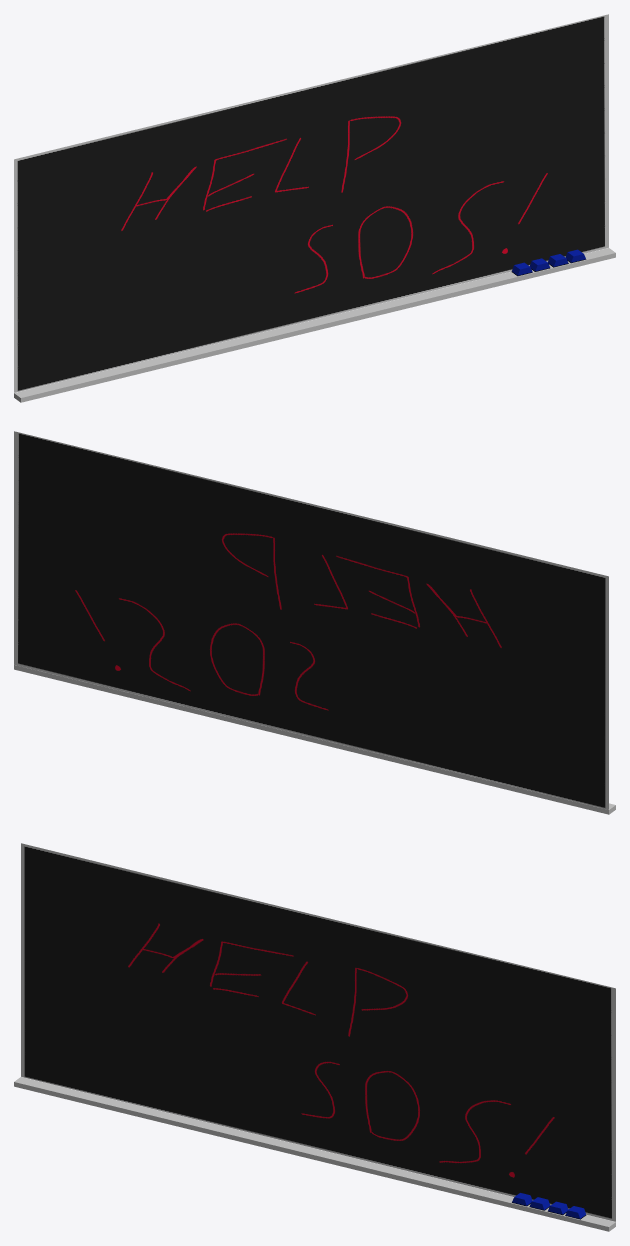
Rendered from BlackBoard Game.fbx.
3 views of the same model, one above another, from view 1: azimuth 30°, elevation 25°; view 2: azimuth 150°, elevation 25°; view 3: azimuth 330°, elevation 25° (orthographic).
Visible parts, largest first — view 1: pPlane1, pCube1; view 2: pPlane1, pCube1; view 3: pPlane1, pCube1.
Boxes of the visible parts, x1,y1,x2,y2 form: pPlane1: [14, 14, 608, 392]; pCube1: [14, 248, 615, 402]; pPlane1: [14, 431, 608, 809]; pCube1: [14, 665, 615, 814]; pPlane1: [21, 843, 615, 1221]; pCube1: [14, 1077, 615, 1231].
Size of the model in its own units: 400 by 153 by 8.03.
4 materials, 1 textured.
